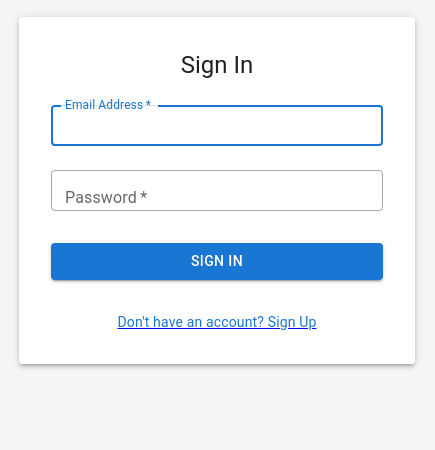
Test: Login Component › handles login error
Type "wrong@example.com" into the field labelled "Email Address *" at (217, 126), box [51, 105, 383, 146]
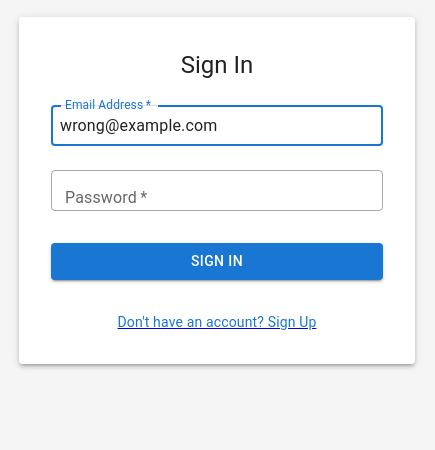
Type "WrongPassword123!" into the password field labelled "Password *" at (217, 190), box [51, 170, 383, 211]
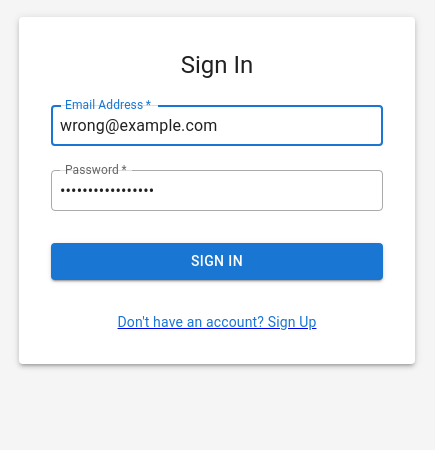
Click the button "Sign In" at (217, 261), box [51, 243, 383, 280]
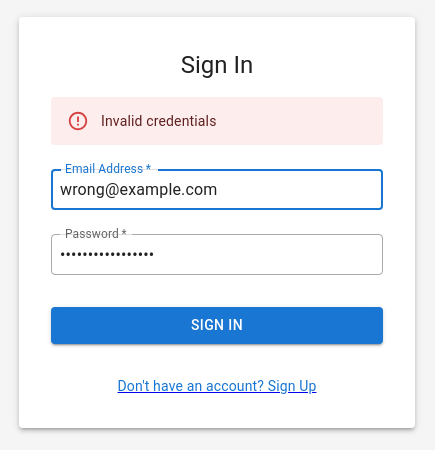
Expected: the text "Invalid credentials" is shown, [101, 113, 216, 129]
